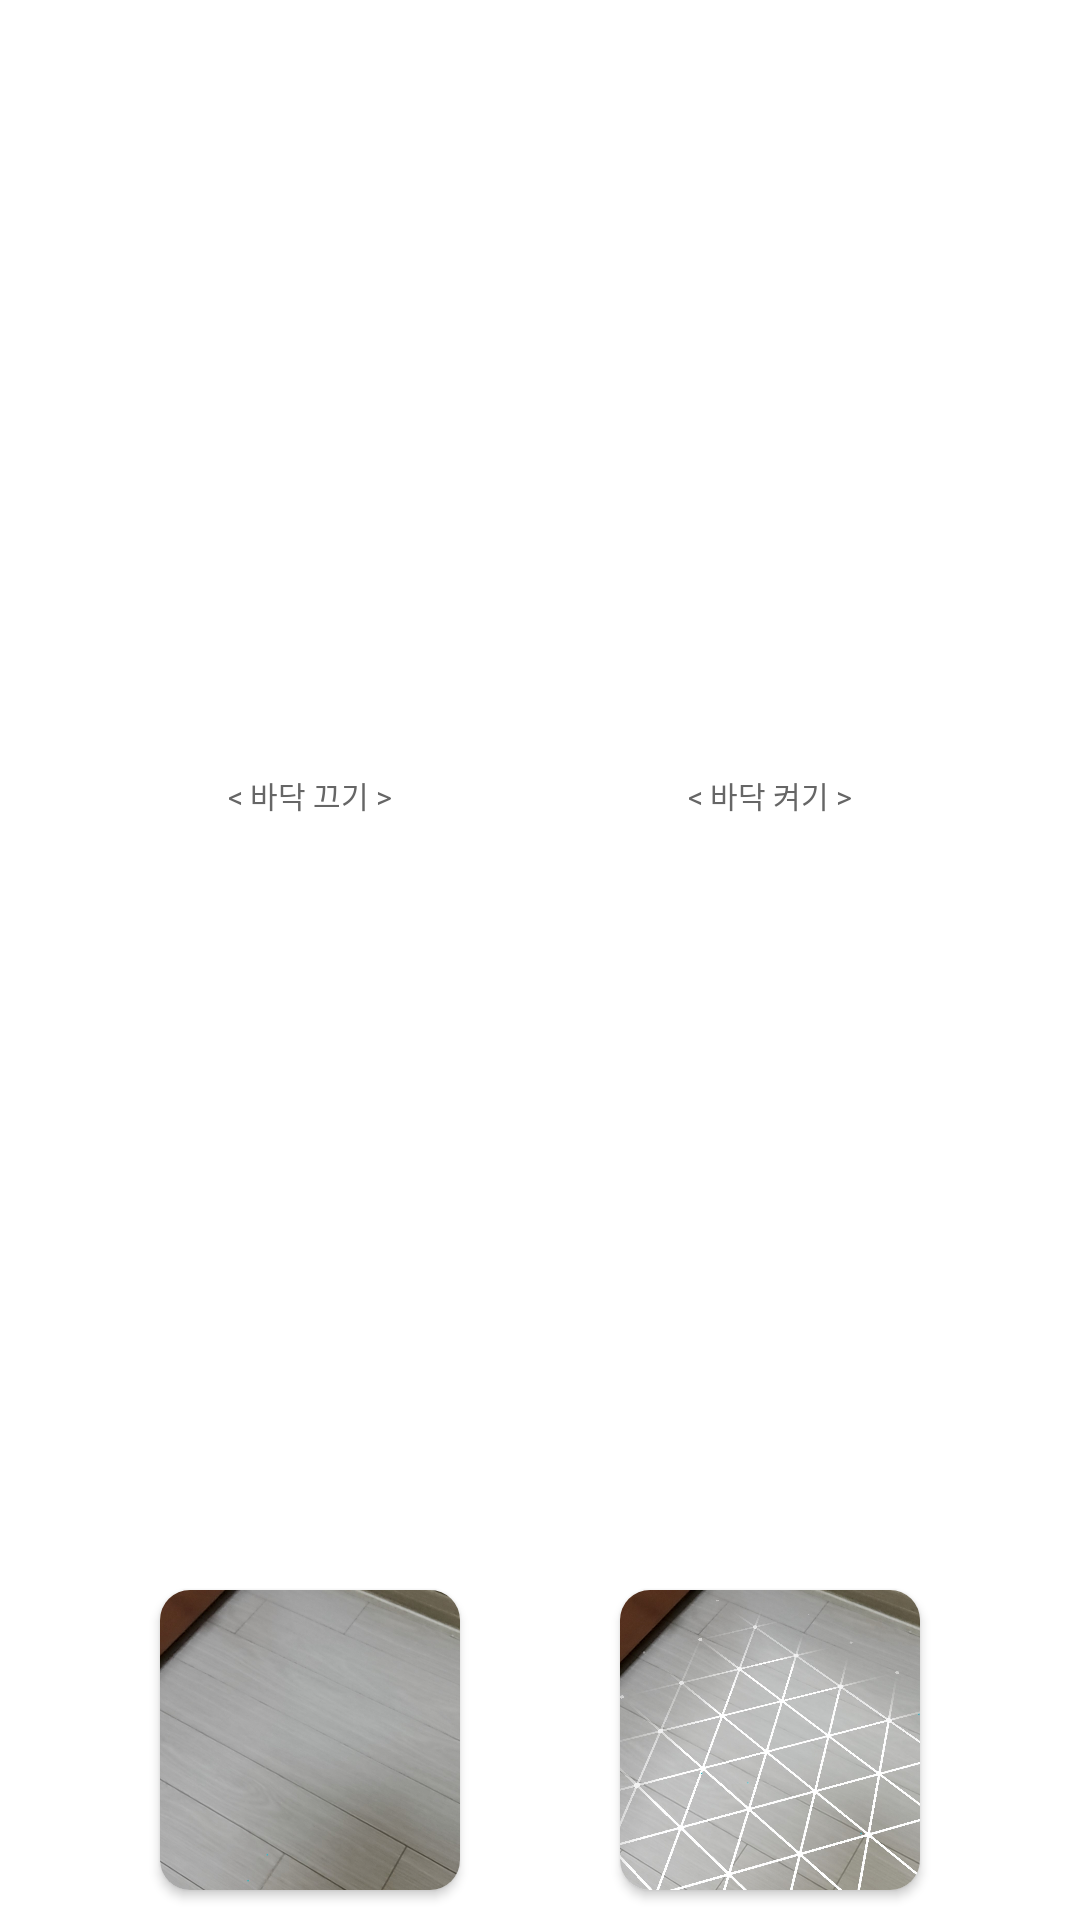

Screen size 1080×1920. Icon name, then its box in pixels as (x1, y1, x2, y2):
setting noplane: (160, 1590, 460, 1890)
setting plane: (620, 1590, 920, 1890)
